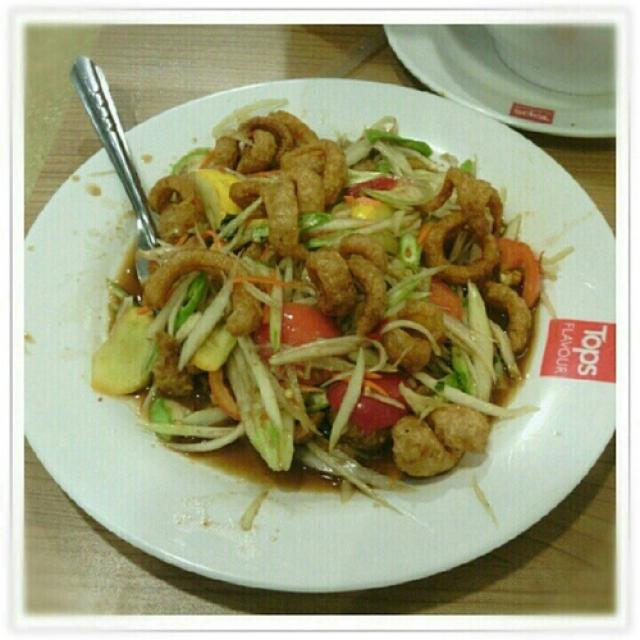蔬菜料理: (37, 58, 594, 570)
